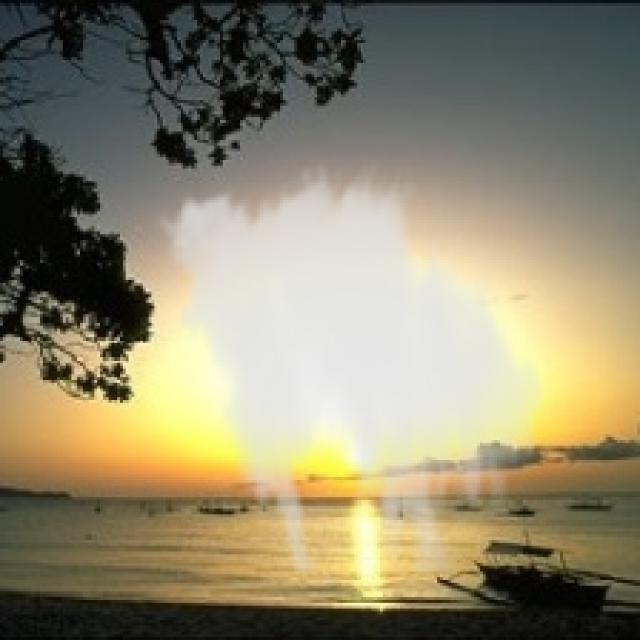Smoke: (148, 160, 558, 574)
